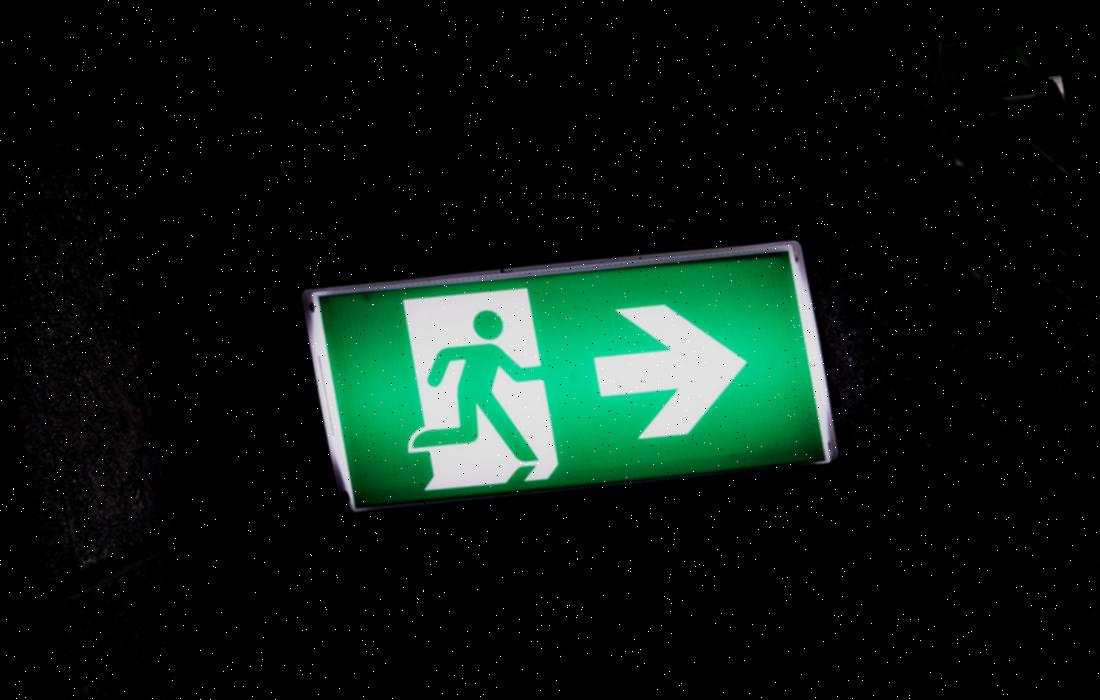emergency_exit: (302, 240, 839, 512)
